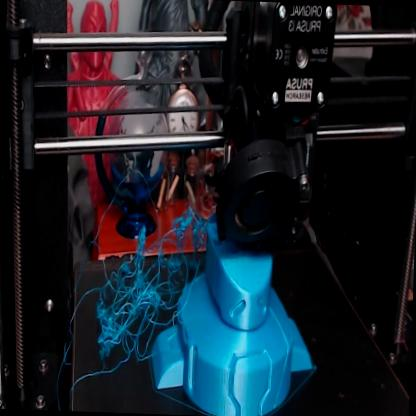fail: (83, 199, 206, 381)
